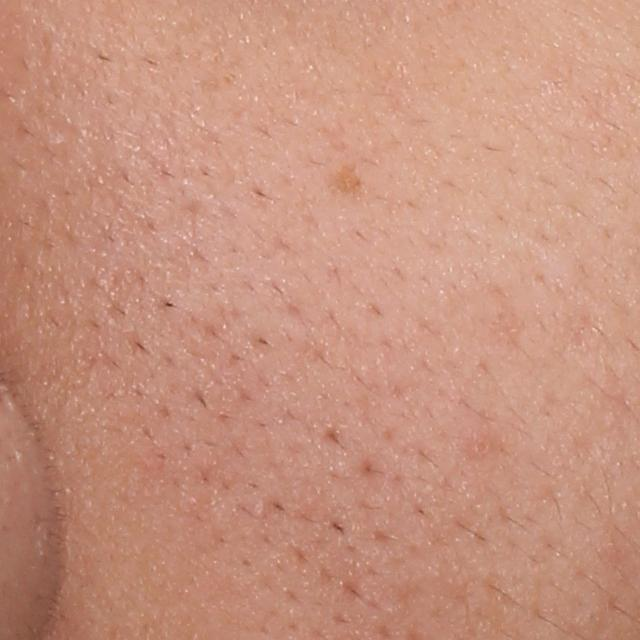comedo: (474, 433, 496, 454)
